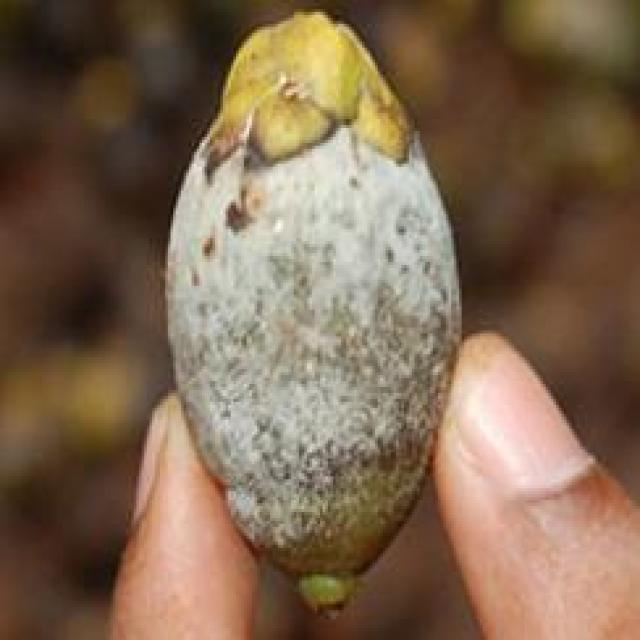damaged: (168, 9, 459, 607)
